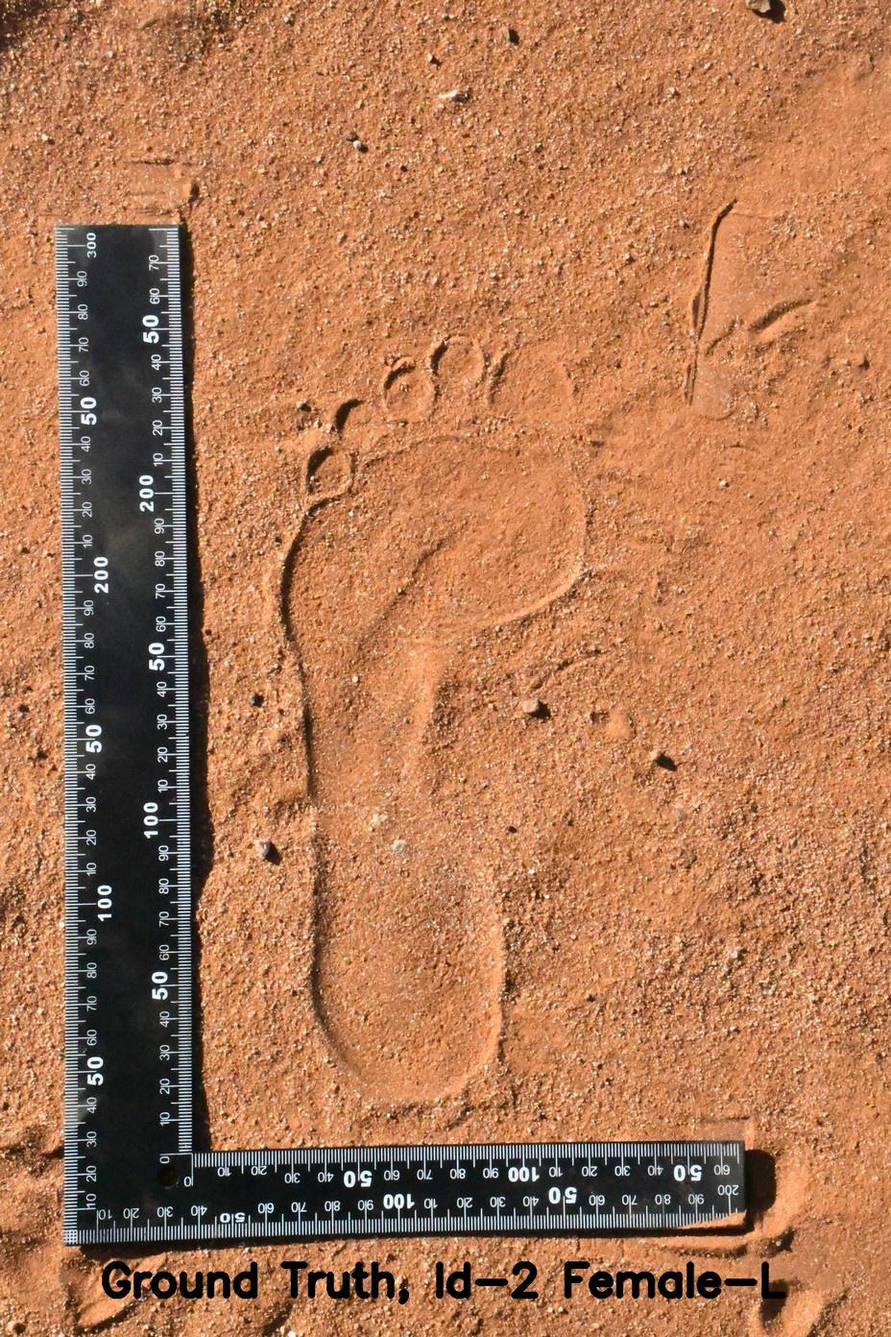human_footprint: (241, 263, 650, 1133)
